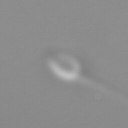normal: (78, 72, 128, 106)
